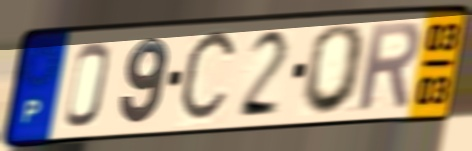0: (63, 40, 114, 131)
2: (231, 28, 295, 120)
9: (116, 33, 172, 129)
C: (175, 24, 241, 130)
O: (298, 21, 370, 118)
R: (356, 18, 423, 115)
